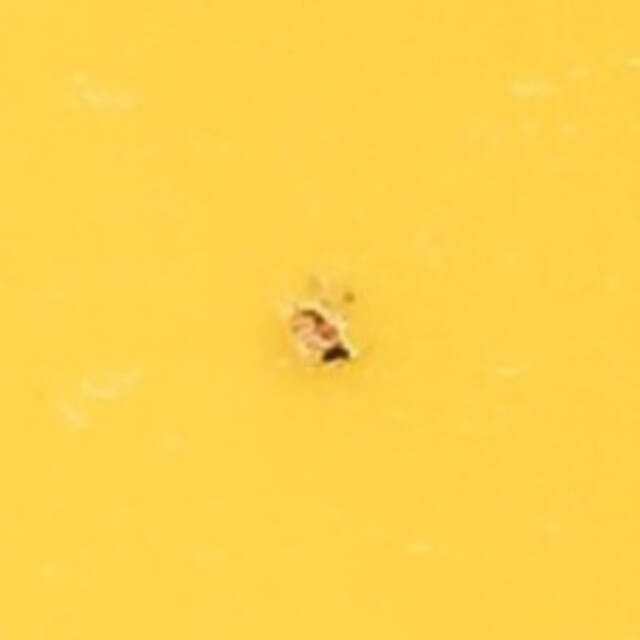Brachycera: (284, 270, 356, 370)
